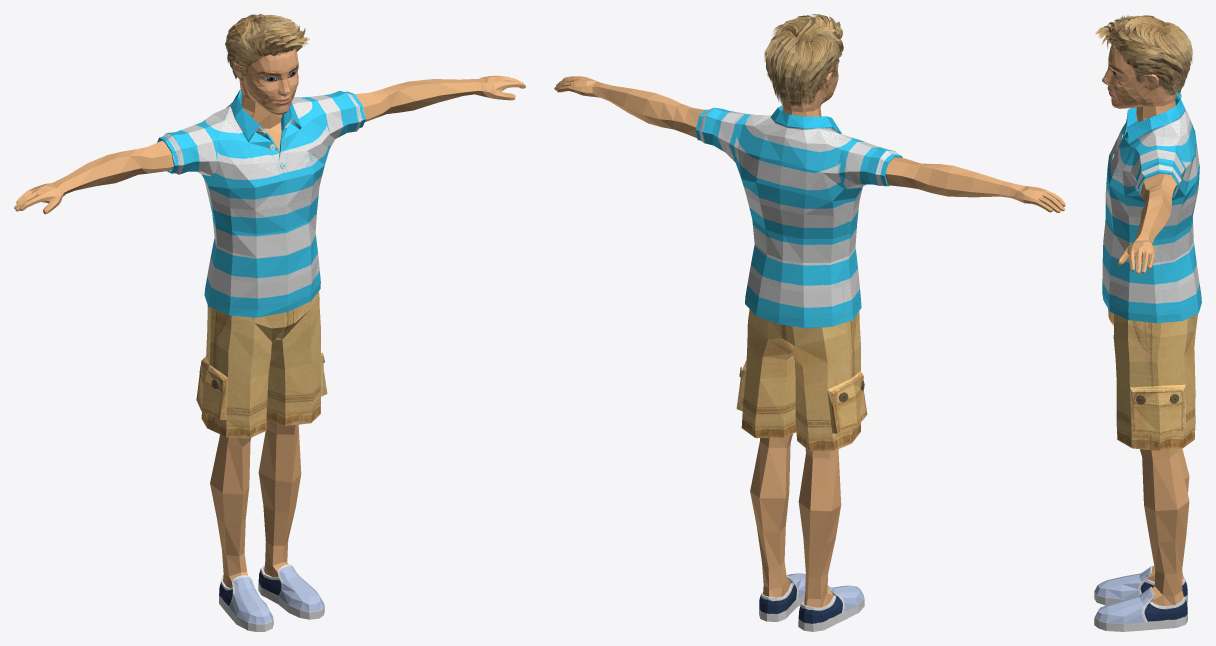
The model's file is ken-dreamhouse.glb.
3 views of the same model, side by side, from view 1: azimuth 30°, elevation 25°; view 2: azimuth 150°, elevation 25°; view 3: azimuth 270°, elevation 25° (orthographic).
Parts seen in each view (by area): view 1: Node; view 2: Node; view 3: Node.
Part boxes in pixels (<box>): Node: <box>14,14,525,631</box>; Node: <box>554,14,1065,631</box>; Node: <box>1094,15,1201,631</box>.
Size of the model in its own units: 1.67 by 1.84 by 0.3039.
5 materials, 5 textured.
